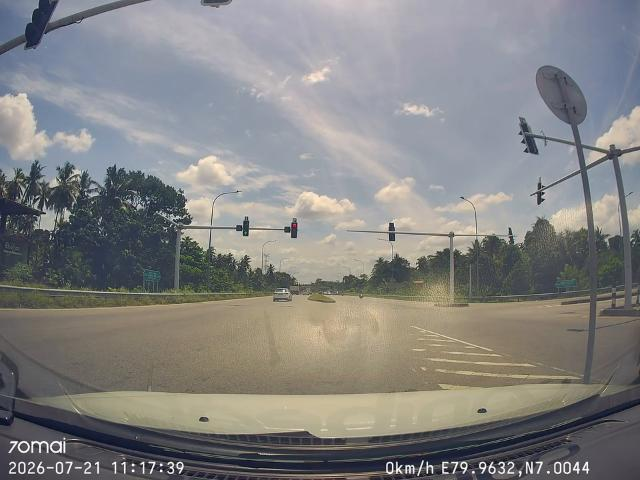traffic light red: (287, 214, 305, 242)
